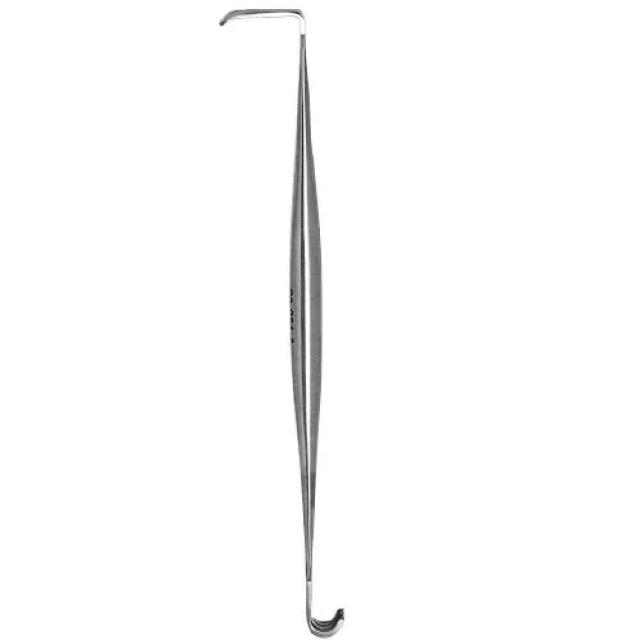Senn Retractor: (212, 0, 351, 640)
